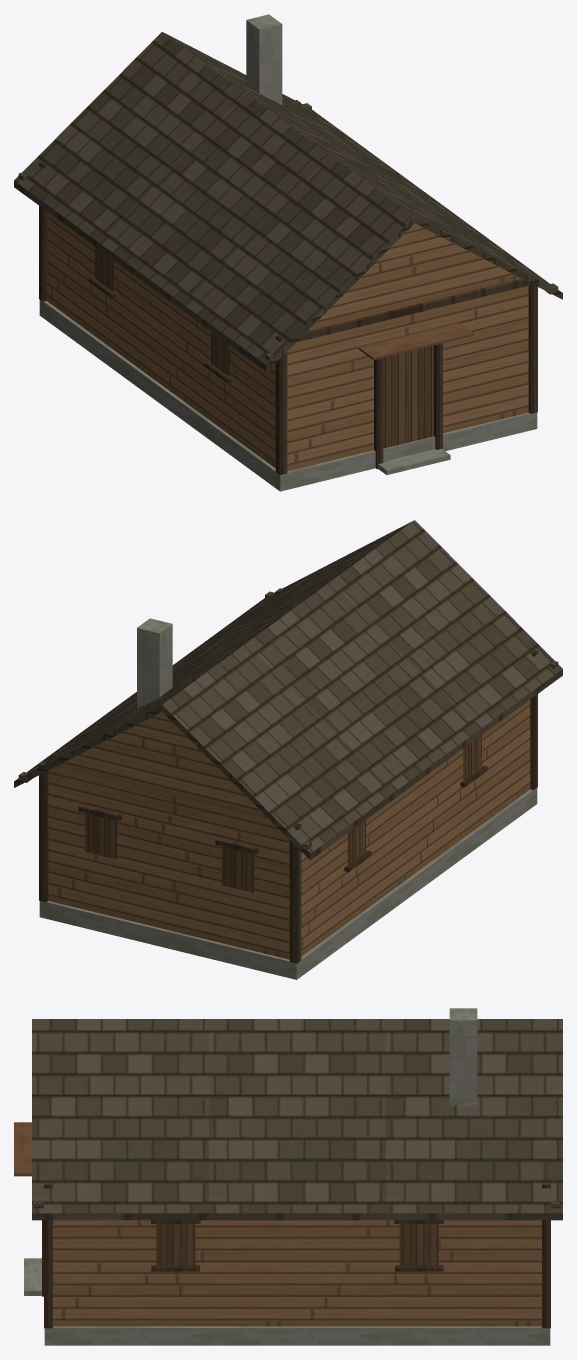
Rendered from ae_forest_wood_large_hall_lod0.glb.
3 views of the same model, one above another, from view 1: azimuth 30°, elevation 25°; view 2: azimuth 150°, elevation 25°; view 3: azimuth 270°, elevation 25° (orthographic). The views are drawn at different scales.
Parts seen in each view (by area): view 1: ae_forest_wood_large_hall_lod0; view 2: ae_forest_wood_large_hall_lod0; view 3: ae_forest_wood_large_hall_lod0.
Part boxes in pixels (x1,y1,x2,y2): ae_forest_wood_large_hall_lod0: (14,14,562,491); ae_forest_wood_large_hall_lod0: (14,520,562,979); ae_forest_wood_large_hall_lod0: (14,1008,562,1345).
Size of the model in its own units: 6.5 by 5.85 by 9.93.
1 material, 1 textured.
